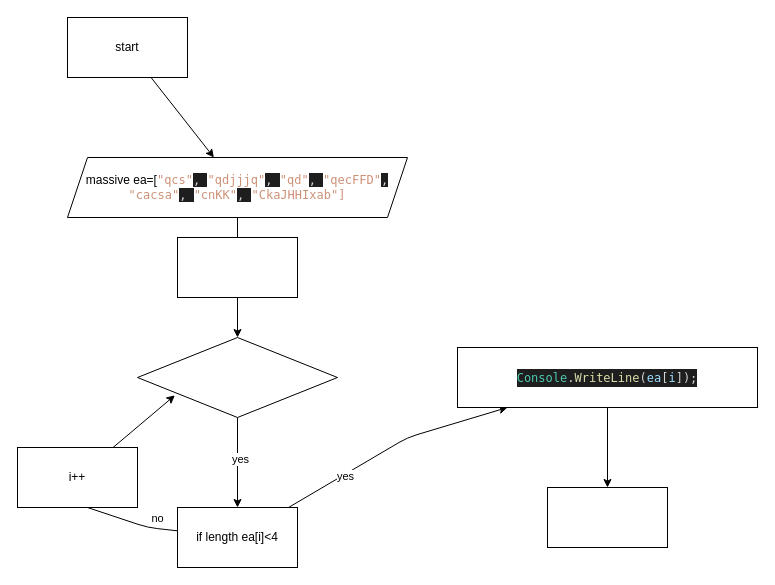
Some shapes in this 775 by 585 pixel diagram are drawn without their labels. The shapes that lost their labels are listed below. From the top down, each one's centre as x and y in pixels, then its label:
point 237,267: int i =0
point 237,377: if i <length ea
point 607,517: stop
